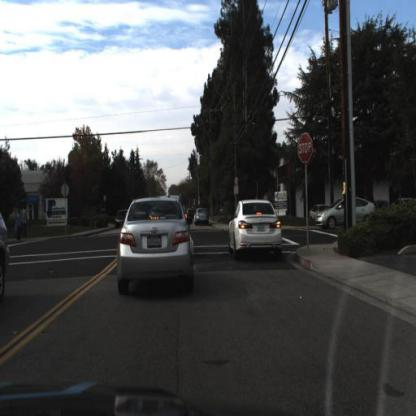car: (115, 196, 198, 303), (227, 198, 284, 266), (315, 195, 378, 231), (307, 198, 331, 226), (193, 205, 211, 231), (113, 209, 131, 232)
pedestrian: (21, 205, 32, 242), (16, 209, 24, 245)
